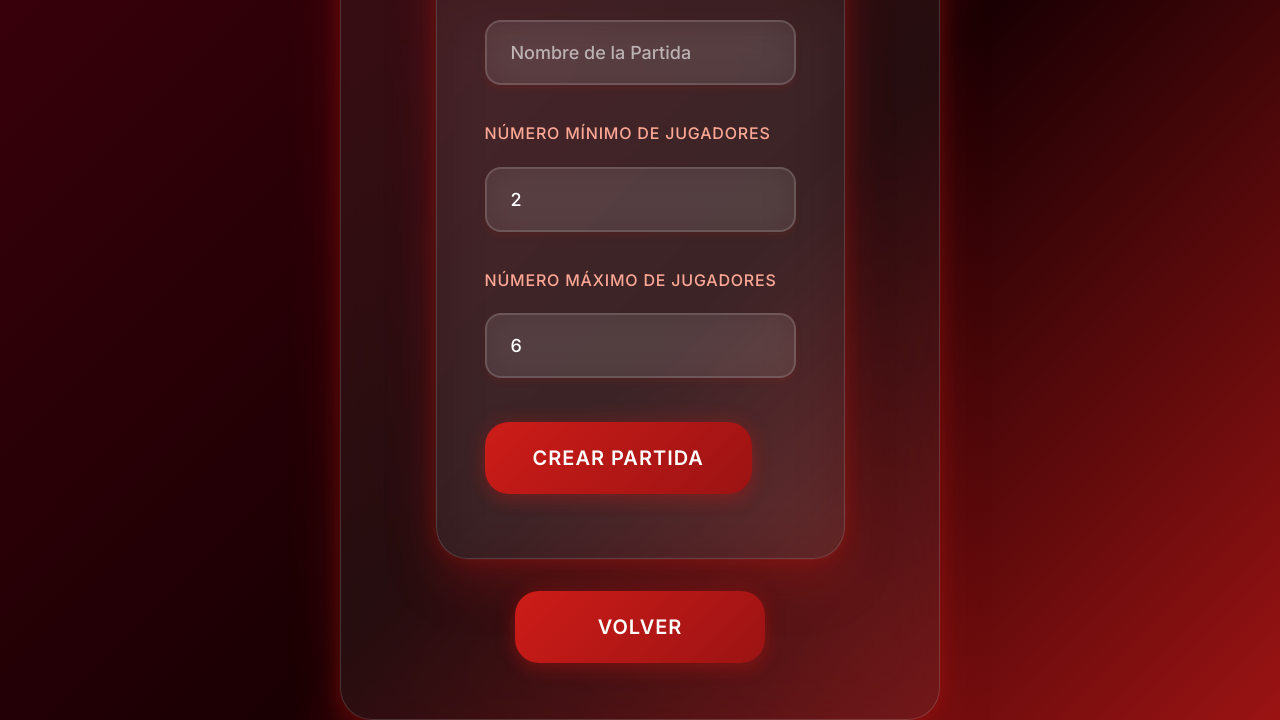
Test case: CrearPartidaContainer Integration Tests › valida que el nombre de la partida sea obligatorio
(page scrolled)
Click the button "Crear Partida" at (618, 458), box [484,422,752,494]
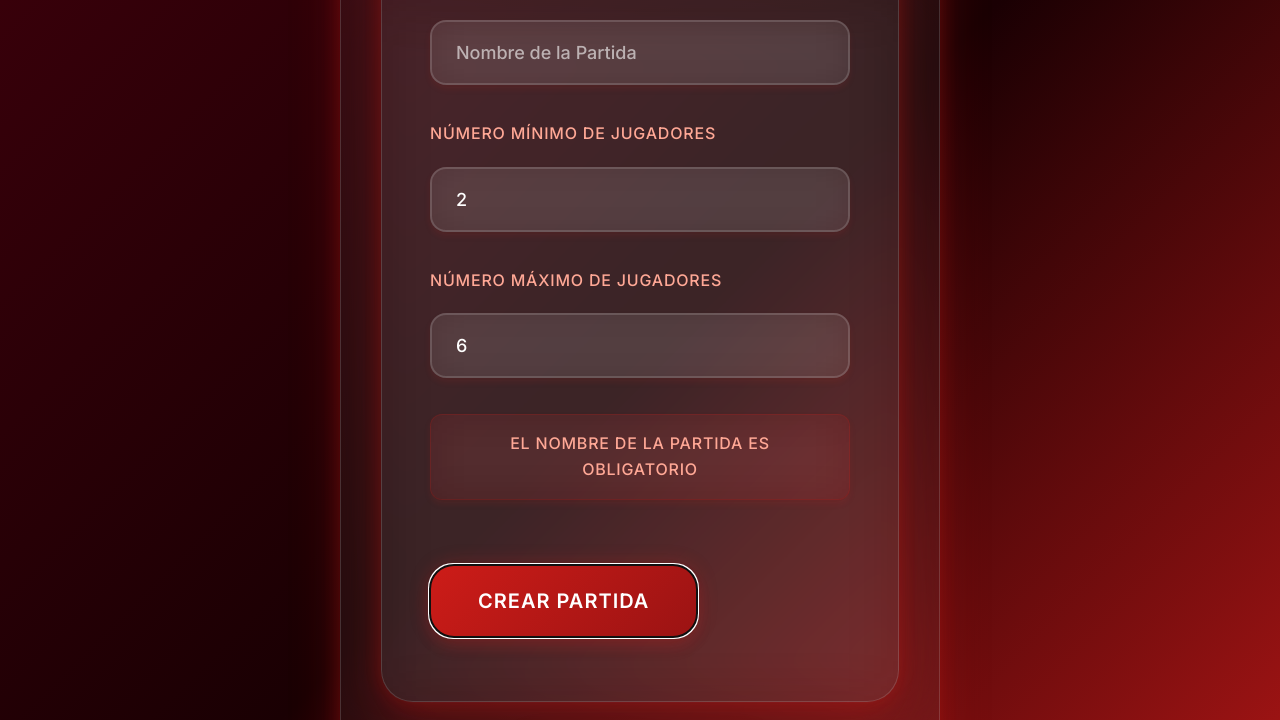
Check: the text "El nombre de la partida es obligatorio" is shown, box [430,414,850,500]
